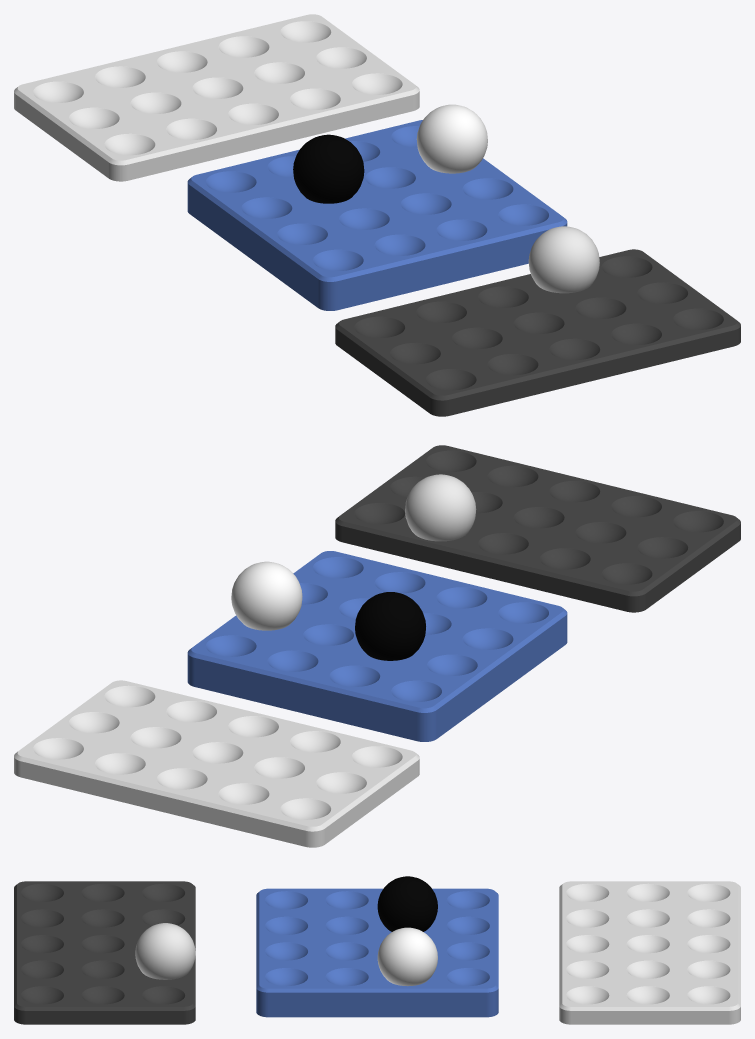
The model's file is pylos.glb.
The picture shows the model from 3 angles, top to bottom: view 1: azimuth 30°, elevation 25°; view 2: azimuth 150°, elevation 25°; view 3: azimuth 270°, elevation 25°; orthographic projection. The views are drawn at different scales.
Visible parts, largest first — view 1: Platform_W, Platform, Platform_B, Sphere, Sphere_1, Sphere_2; view 2: Platform, Platform_W, Platform_B, Sphere, Sphere_1, Sphere_2; view 3: Platform, Platform_W, Platform_B, Sphere, Sphere_2, Sphere_1.
Part boxes in pixels (x1=…): Platform_W: x1=14, y1=14, x2=419, y2=181; Platform: x1=187, y1=120, x2=567, y2=310; Platform_B: x1=335, y1=249, x2=740, y2=416; Sphere: x1=416, y1=104, x2=487, y2=173; Sphere_1: x1=293, y1=134, x2=364, y2=203; Sphere_2: x1=528, y1=226, x2=599, y2=293; Platform: x1=187, y1=551, x2=567, y2=741; Platform_W: x1=14, y1=680, x2=419, y2=847; Platform_B: x1=335, y1=445, x2=740, y2=612; Sphere: x1=231, y1=561, x2=302, y2=630; Sphere_1: x1=355, y1=592, x2=425, y2=660; Sphere_2: x1=405, y1=474, x2=476, y2=541; Platform: x1=256, y1=888, x2=498, y2=1017; Platform_W: x1=559, y1=881, x2=740, y2=1024; Platform_B: x1=14, y1=881, x2=195, y2=1024; Sphere: x1=377, y1=927, x2=437, y2=986; Sphere_2: x1=135, y1=923, x2=195, y2=979; Sphere_1: x1=377, y1=876, x2=437, y2=931.
Bounding box in the file's own units: 5 × 1.35 × 12.
